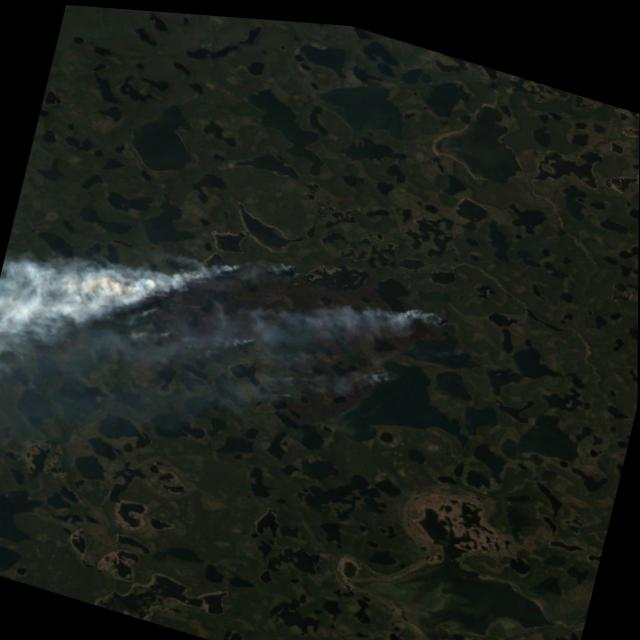fire: (36, 178, 468, 457)
